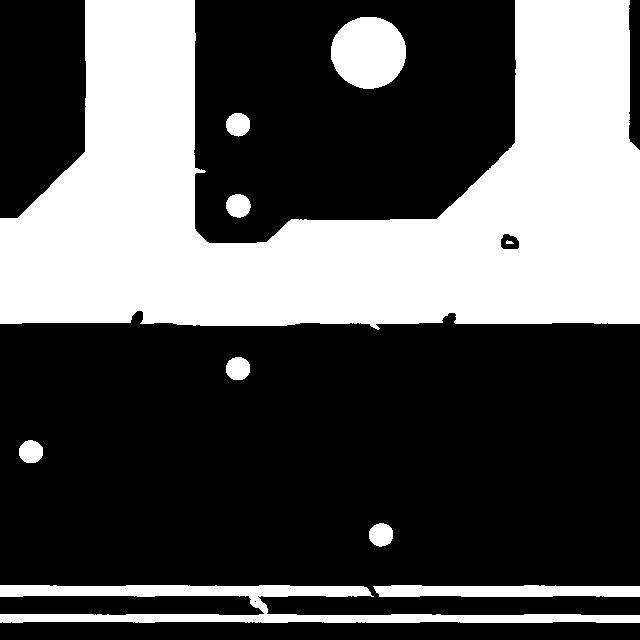copper: (491, 224, 528, 258)
mousebite: (360, 311, 389, 339), (182, 158, 215, 182)
open: (239, 584, 277, 623)
short: (353, 572, 388, 608)
spur: (432, 303, 465, 338), (121, 301, 152, 337)
